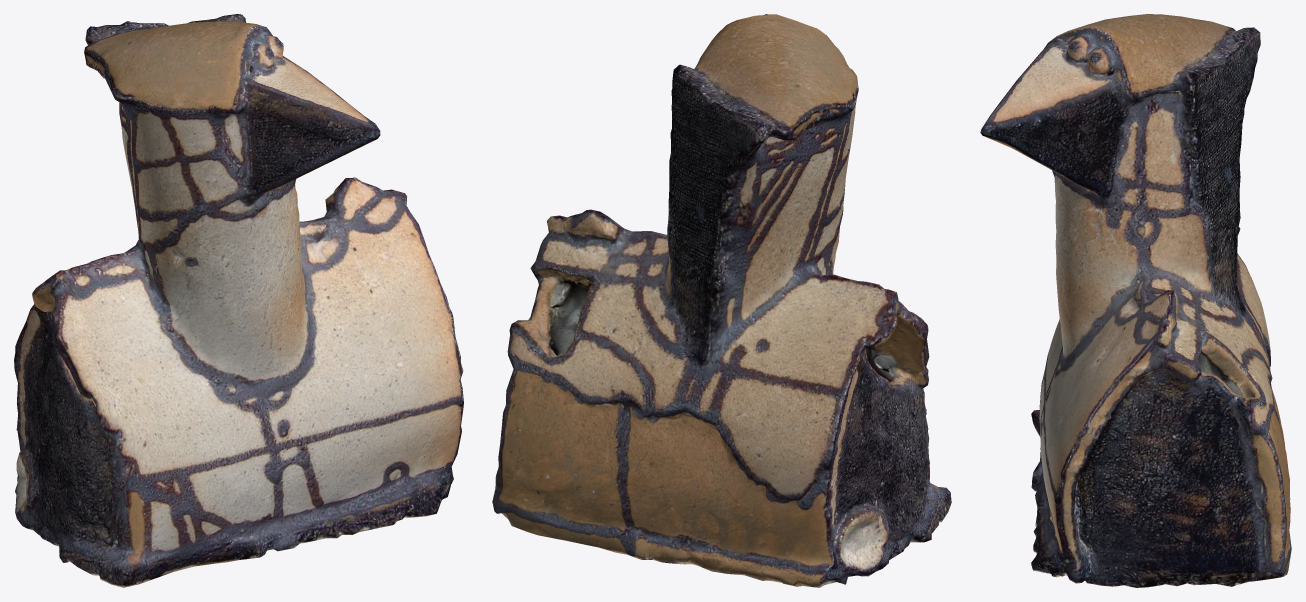
The picture shows the model from 3 angles, left to right: view 1: azimuth 30°, elevation 25°; view 2: azimuth 150°, elevation 25°; view 3: azimuth 270°, elevation 25°; orthographic projection. The views are drawn at different scales.
Visible parts, largest first — view 1: 3-8-4k; view 2: 3-8-4k; view 3: 3-8-4k.
Boxes of the visible parts, x1=… form: 3-8-4k: x1=14, y1=14, x2=463, y2=587; 3-8-4k: x1=492, y1=14, x2=951, y2=587; 3-8-4k: x1=980, y1=14, x2=1291, y2=587.
Bounding box in the file's own units: 0.2395 × 0.3 × 0.179.
1 material, 1 textured.
